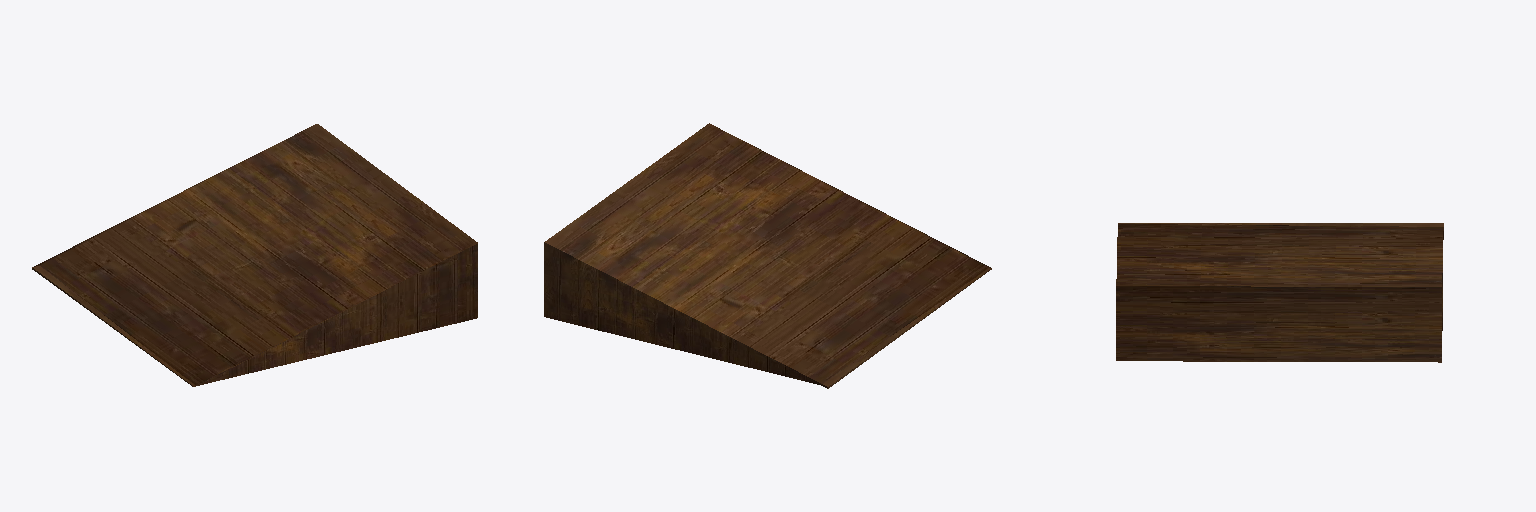
3 renders of one model, left to right at view 1: azimuth 30°, elevation 25°; view 2: azimuth 150°, elevation 25°; view 3: azimuth 270°, elevation 25°, orthographic.
Visible parts, largest first — view 1: Box019; view 2: Box019; view 3: Box019.
Part boxes in pixels (bbox=[...]): Box019: bbox=[32, 124, 477, 386]; Box019: bbox=[544, 123, 991, 388]; Box019: bbox=[1116, 223, 1443, 362].
Size of the model in its own units: 73.73 by 18.96 by 72.96.
1 materials, 1 textured.